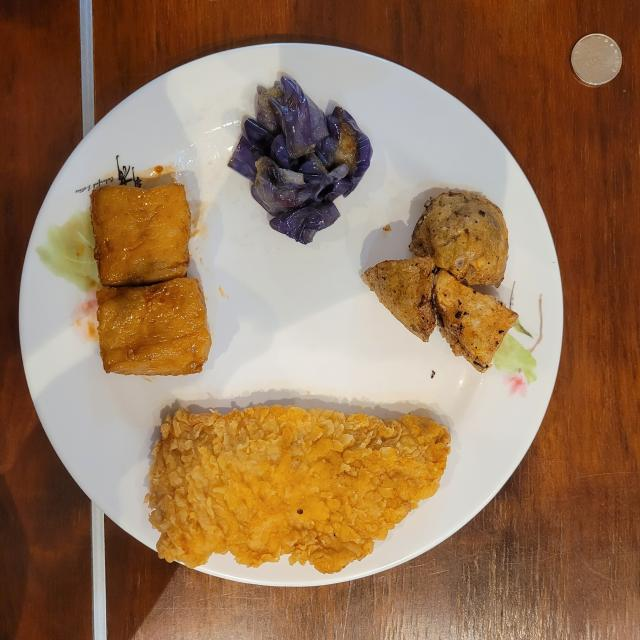coin: (571, 34, 622, 86)
creamy tofu: (90, 184, 211, 375)
fried chicken cutlet: (146, 405, 450, 574)
fried potato: (362, 191, 518, 372)
